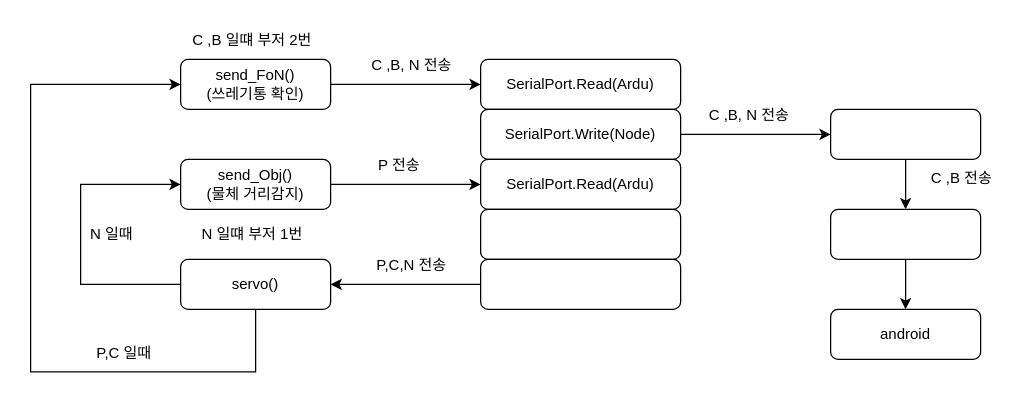
This 1028x404 diagram has some shape labels left out. Each missing label, with the centre of its shape:
fcm: (905,233)
find object: (580,233)
nodejs: (905,133)
SerialPort.Write(Ardu): (580,283)
